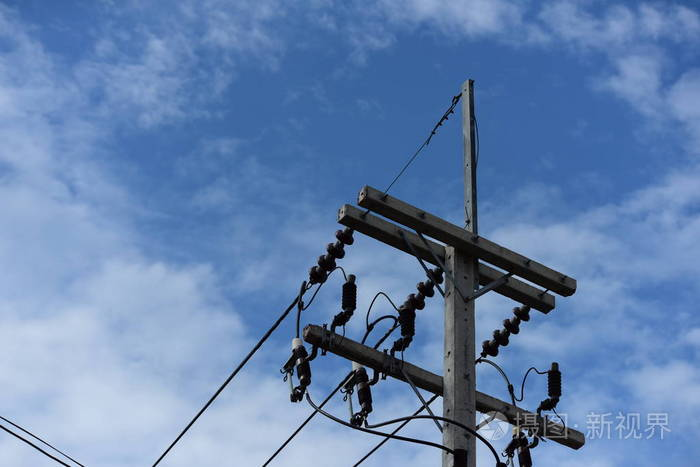insulator: (308, 231, 354, 286), (482, 307, 531, 358), (408, 273, 442, 311)
